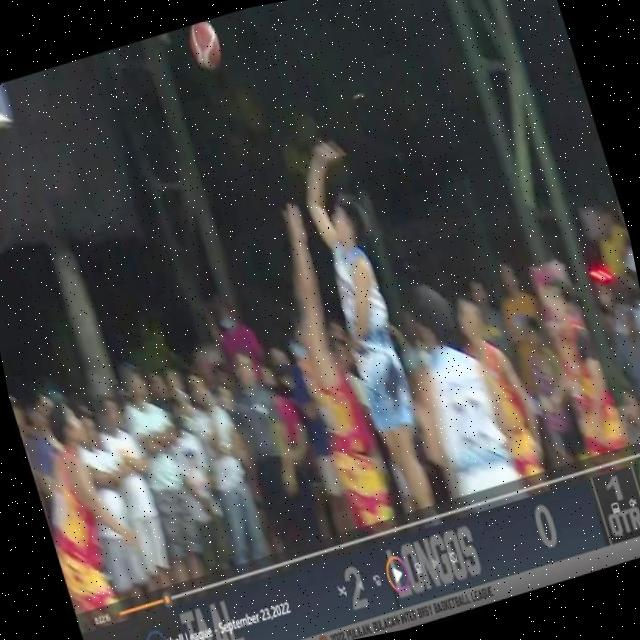ball: (180, 17, 230, 76)
